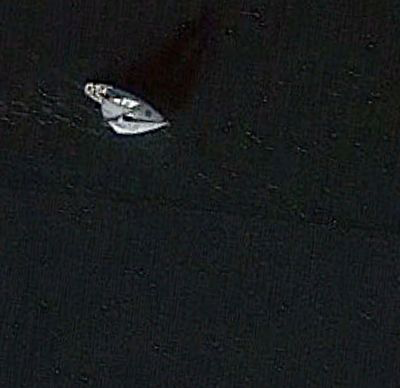boat: (81, 81, 170, 136)
